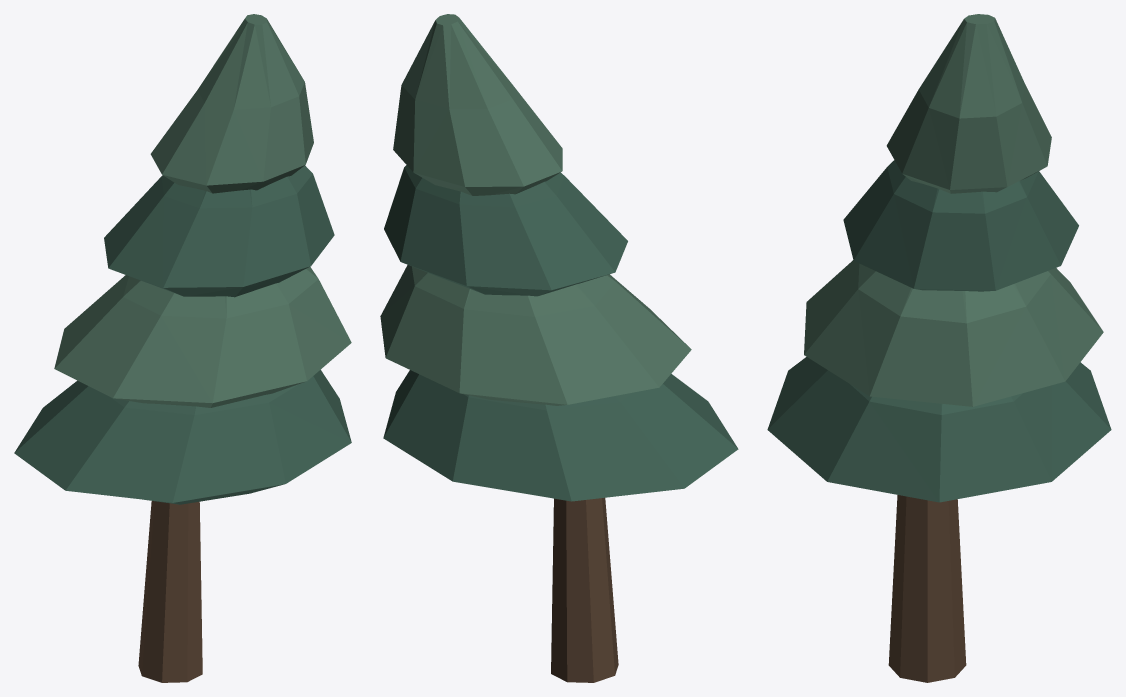
The model's file is NAT_V3_Tree_WindPine.glb.
3 views of the same model, side by side, from view 1: azimuth 30°, elevation 25°; view 2: azimuth 150°, elevation 25°; view 3: azimuth 270°, elevation 25° (orthographic). The views are drawn at different scales.
Visible parts, largest first — view 1: NAT_V3_Tree_WindPine; view 2: NAT_V3_Tree_WindPine; view 3: NAT_V3_Tree_WindPine.
Boxes of the visible parts, bbox=[...] form: NAT_V3_Tree_WindPine: bbox=[14, 14, 351, 682]; NAT_V3_Tree_WindPine: bbox=[380, 14, 738, 682]; NAT_V3_Tree_WindPine: bbox=[767, 14, 1111, 682].
Bounding box in the file's own units: 2.29 × 4.44 × 1.95.
